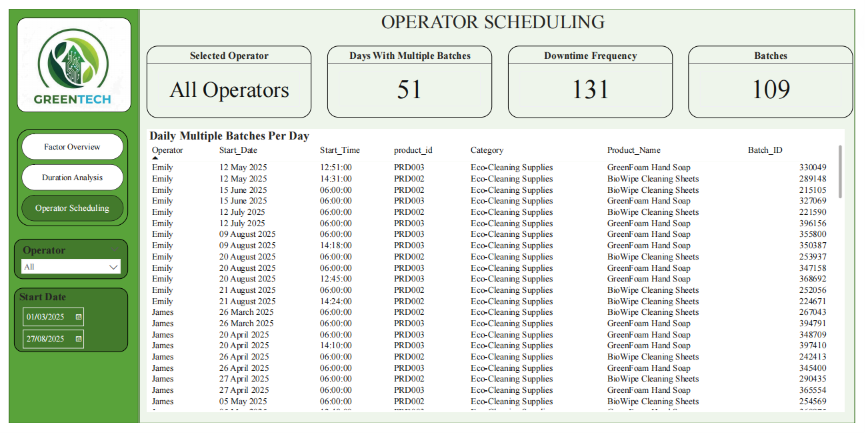

This screenshot's page, from the dashboard's own definition file:
{"tool":"powerbi","page":{"name":"Operator Scheduling","canvas":[1900,930],"ordinal":2},"visuals":[{"type":"shape","box":[292.9,0,1607.1,930.5],"z":0},{"type":"shape","box":[0,0,289.9,930.5],"z":1000},{"type":"textbox","box":[289.9,0,1607.1,71.9],"z":2000},{"type":"cardVisual","title":"Selected Operator","fields":{"Data":["batch_pd.Selected Operator"]},"box":[309.4,83.2,370,162],"z":3000},{"type":"cardVisual","title":"Days With Multiple Batches","fields":{"Data":["Count(batch_pd.start_date)"]},"box":[715,83.2,370,161],"z":4000},{"type":"cardVisual","title":"Downtime Frequency","fields":{"Data":["CountNonNull(downtimes.factor_id)"]},"box":[1120.6,83.2,370,161.8],"z":7000},{"type":"cardVisual","title":"Batches ","fields":{"Data":["CountNonNull(batch_pd.batch_id)"]},"box":[1526.2,83.2,370,161.8],"z":8000},{"type":"slicer","fields":{"Values":["batch_pd.operator"]},"box":[11.2,517,256.2,89.9],"z":9000},{"type":"slicer","title":"Start Date","fields":{"Values":["batch_pd.start_date"]},"box":[11.2,627.1,256.2,143.8],"z":10000},{"type":"image","box":[18,20.2,256.2,211.3],"z":11000},{"type":"pageNavigator","box":[18,269.7,249.5,218],"z":12000},{"type":"tableEx","title":"Daily Multiple Batches Per Day","fields":{"Values":["batch_pd.operator","batch_pd.start_date","batch_pd.start_time","batch_pd.product_id","products.category","products.product_name","batch_pd.batch_id"]},"box":[310.2,269.7,1566.6,636.1],"z":13000}]}

Visuals, with their boxes in screenshot pixels (x1, y1, x2, y2), scaled from the page's 1900x930 canvas onto the 865x433 screenshot:
shape: x1=133 y1=0 x2=864 y2=432
shape: x1=0 y1=0 x2=132 y2=432
textbox: x1=132 y1=0 x2=864 y2=33
"Selected Operator" cardVisual: x1=141 y1=39 x2=309 y2=114
"Days With Multiple Batches" cardVisual: x1=326 y1=39 x2=494 y2=114
"Downtime Frequency" cardVisual: x1=510 y1=39 x2=679 y2=114
"Batches " cardVisual: x1=695 y1=39 x2=863 y2=114
slicer - batch_pd.operator: x1=5 y1=241 x2=122 y2=283
"Start Date" slicer: x1=5 y1=292 x2=122 y2=359
image: x1=8 y1=9 x2=125 y2=108
pageNavigator: x1=8 y1=126 x2=122 y2=227
"Daily Multiple Batches Per Day" tableEx: x1=141 y1=126 x2=854 y2=422
